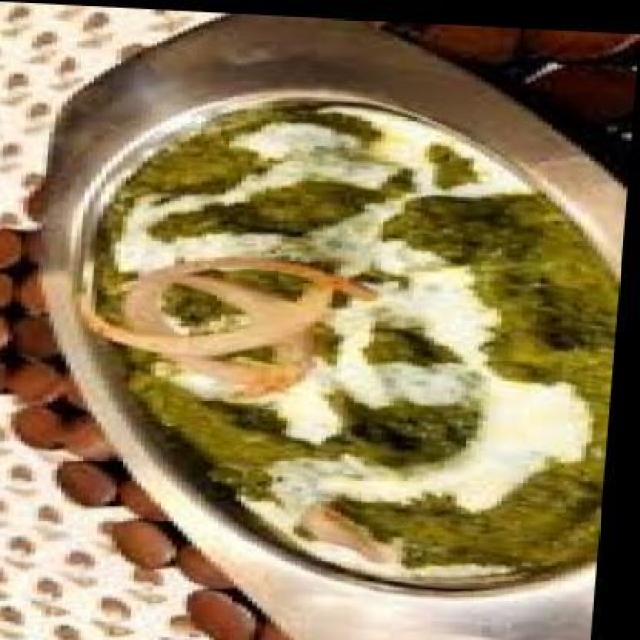palak_paneer: (69, 92, 634, 590)
